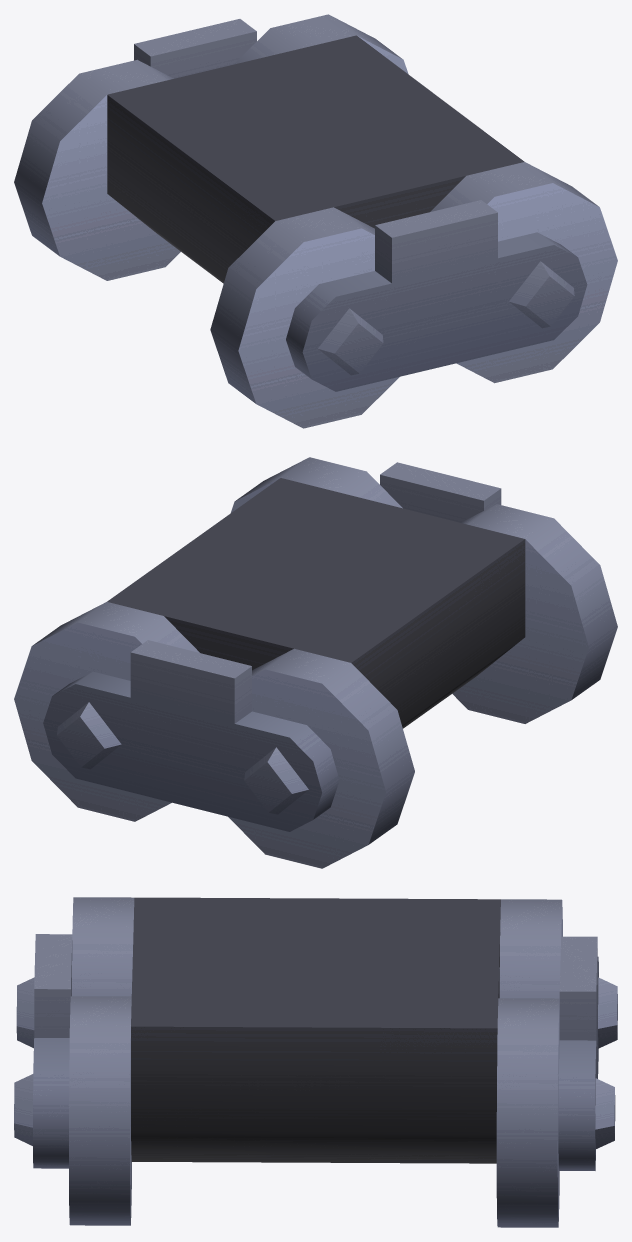
The model's file is wheels-back.001_lev2.glb.
3 renders of one model, top to bottom at view 1: azimuth 30°, elevation 25°; view 2: azimuth 150°, elevation 25°; view 3: azimuth 270°, elevation 25°, orthographic. The views are drawn at different scales.
Parts seen in each view (by area): view 1: wheels-back.001_lev2; view 2: wheels-back.001_lev2; view 3: wheels-back.001_lev2.
Boxes of the visible parts, left/top/right/bottom form: wheels-back.001_lev2: left=14, top=14, right=617, bottom=428; wheels-back.001_lev2: left=14, top=457, right=617, bottom=868; wheels-back.001_lev2: left=14, top=897, right=617, bottom=1227.
Size of the model in its own units: 1.47 by 0.6845 by 1.88.
1 material, 1 textured.
